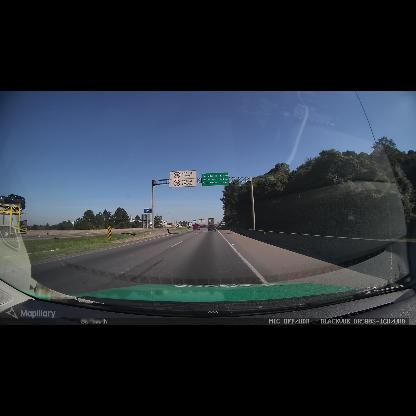O-MP: (108, 226, 112, 239)
R-19: (169, 170, 197, 188)
